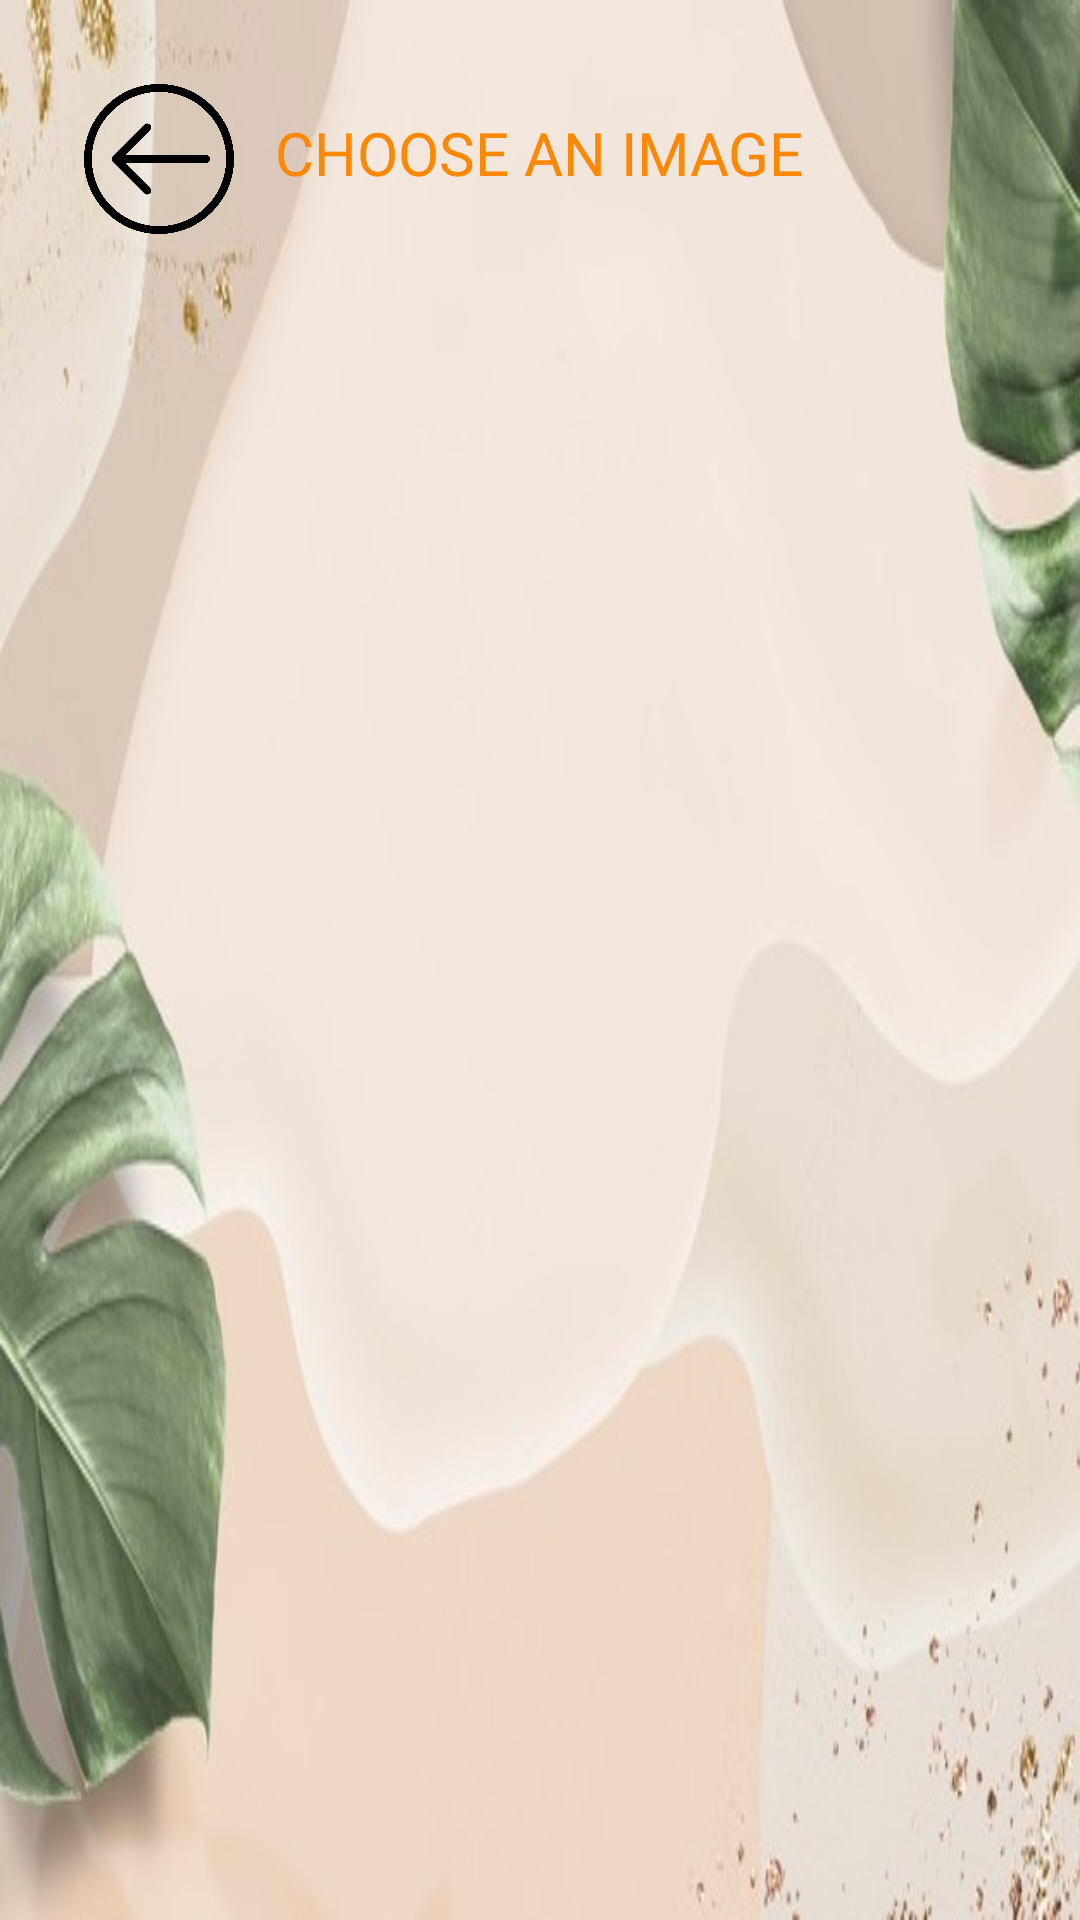

Where to tap for icons on this 1080w x 1920h app screen, as (x,y):
backbutton: (159,159)
